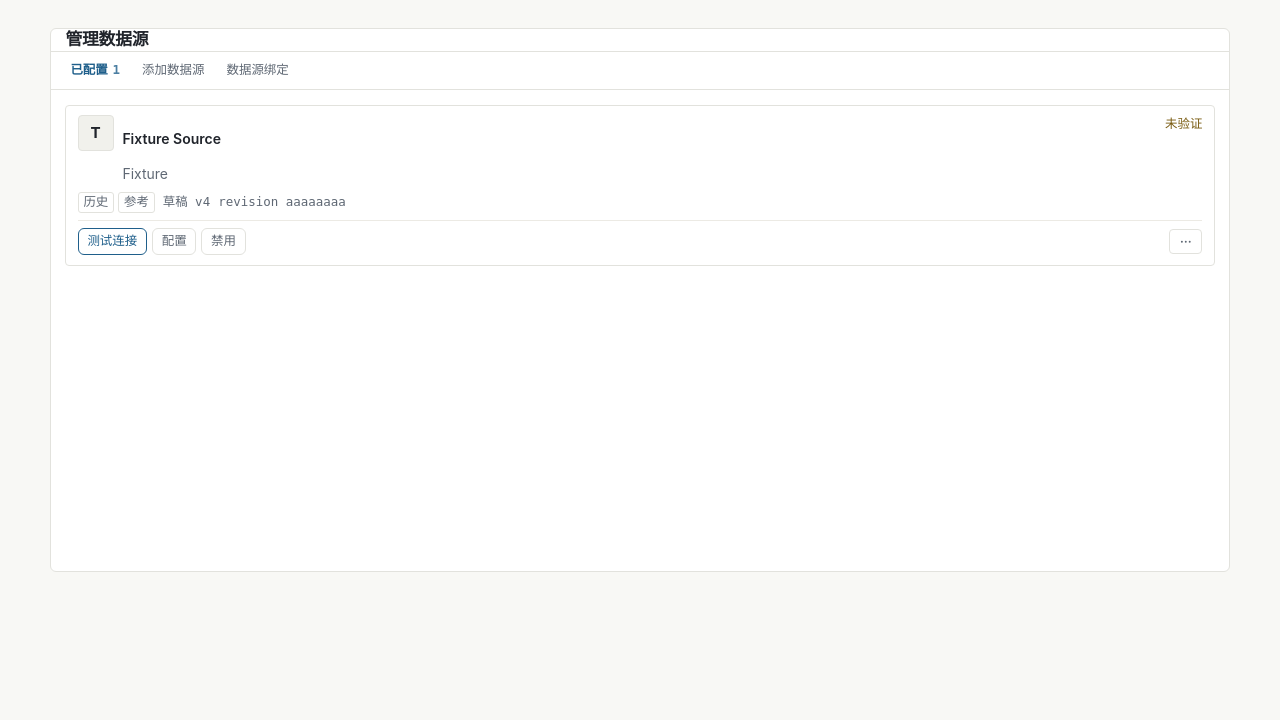
shows the in-flight Probe state while the command is pending
Click the button "测试连接": (112, 242) [78,228,147,256]
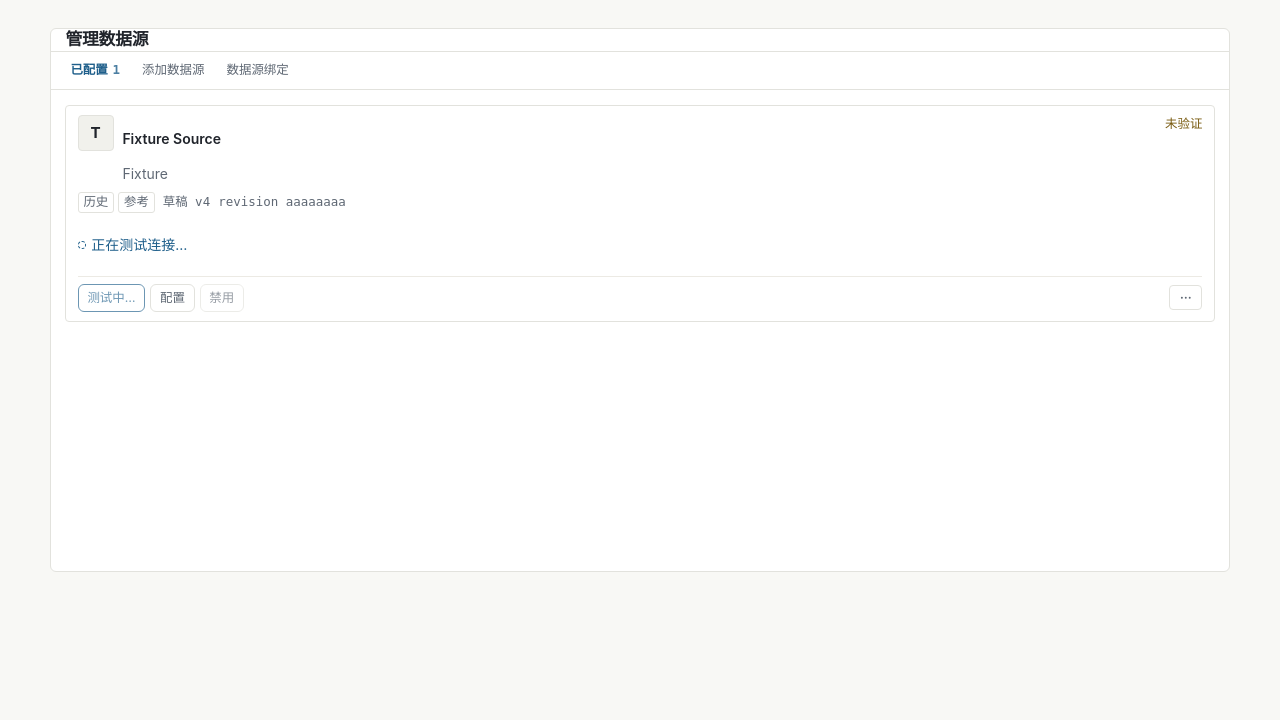
expect the text "正在测试连接…" is shown: met, box [78,236,187,253]
expect the icon with class "state-mark--probing" is shown: met, box [78,241,86,249]
